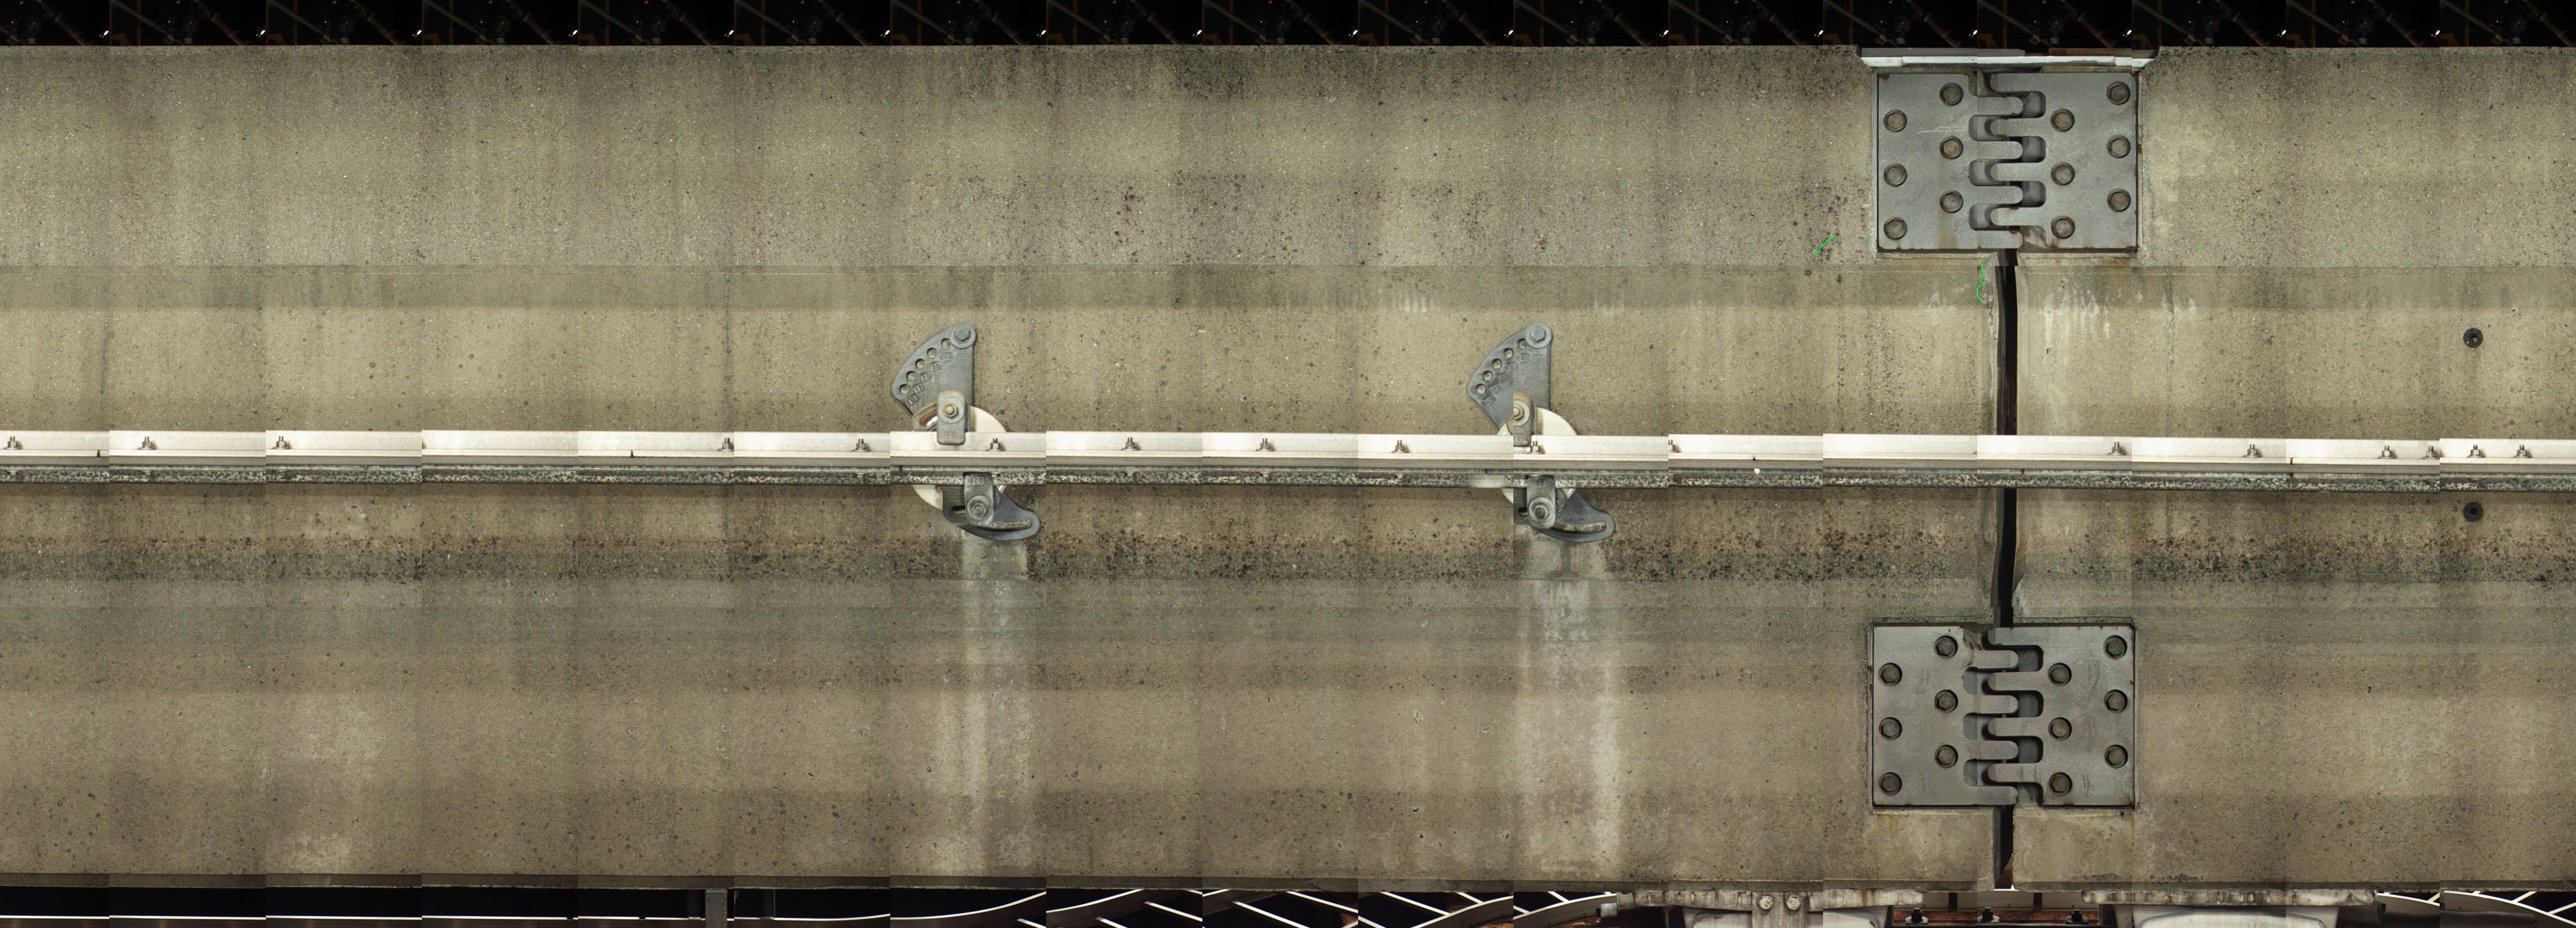concrete: (8, 483, 1999, 884), (0, 46, 1986, 430), (2019, 485, 2576, 884), (2008, 48, 2568, 430)
